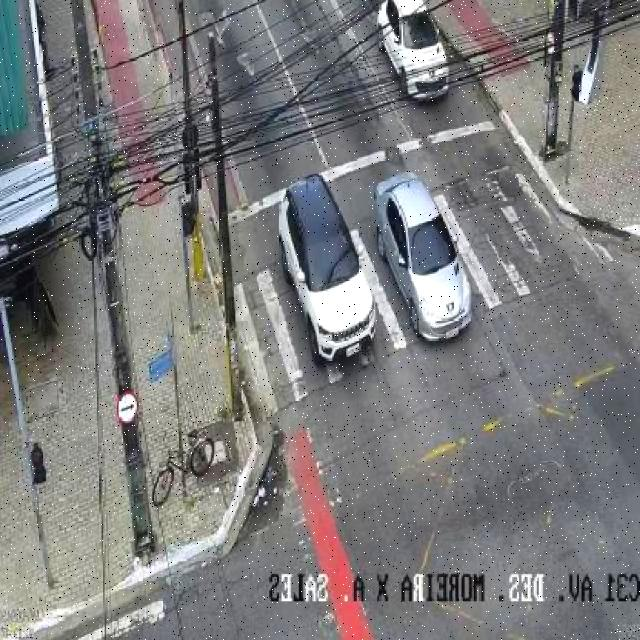bicycle: (153, 424, 216, 506)
car: (278, 173, 377, 367), (374, 171, 472, 344), (374, 0, 449, 97)
